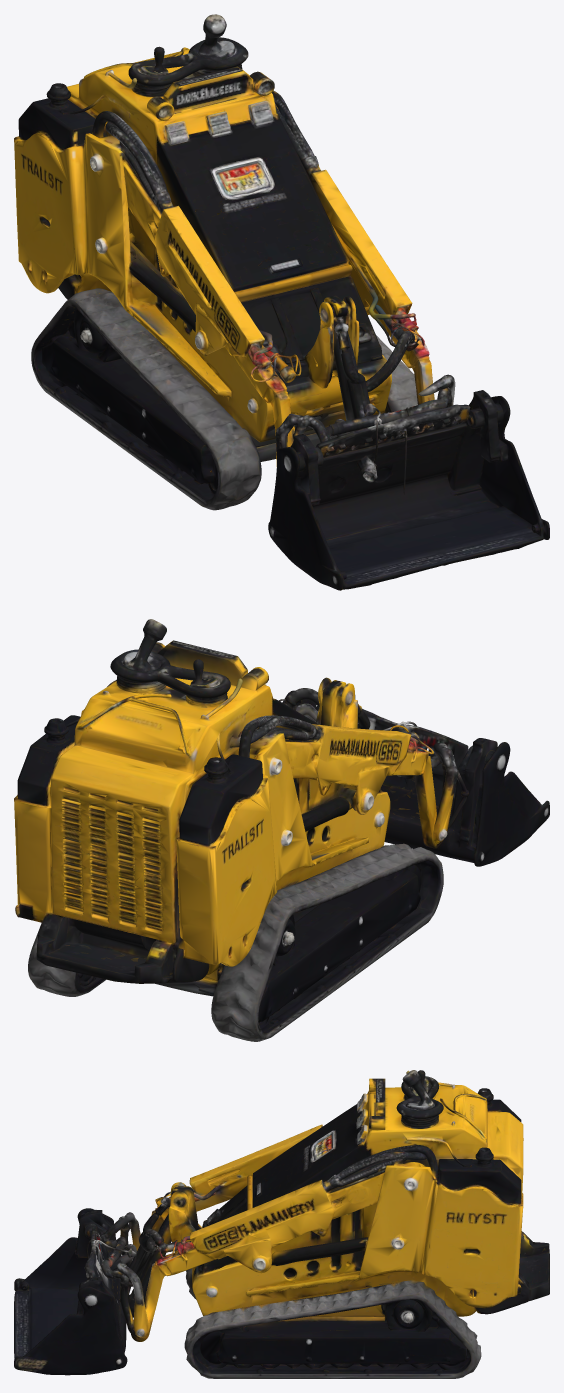
3 views of the same model, one above another, from view 1: azimuth 30°, elevation 25°; view 2: azimuth 150°, elevation 25°; view 3: azimuth 270°, elevation 25° (orthographic). The views are drawn at different scales.
Visible parts, largest first — view 1: node_0; view 2: node_0; view 3: node_0.
Part boxes in pixels (x1,y1,x2,y2): node_0: (14,14,549,590); node_0: (14,619,549,1041); node_0: (14,1070,549,1378).
Size of the model in its own units: 0.3813 by 0.5833 by 1.02.
1 material, 1 textured.
